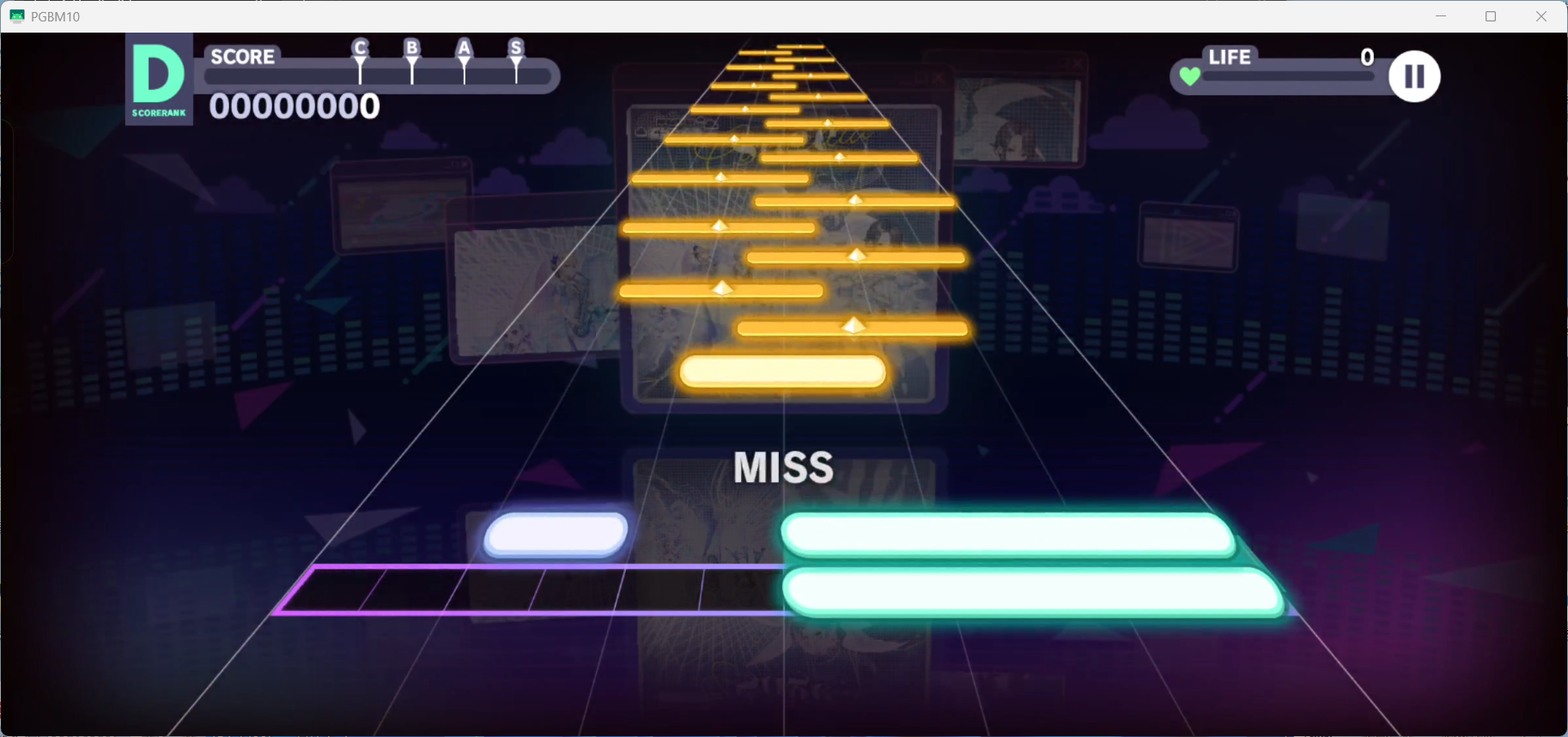sweep: (738, 317, 969, 336), (618, 280, 823, 299), (748, 247, 964, 264), (623, 219, 815, 233), (754, 194, 955, 207), (631, 171, 809, 184), (761, 151, 917, 161), (665, 135, 805, 143), (765, 118, 891, 126), (690, 105, 799, 113), (769, 93, 868, 101), (772, 72, 850, 80), (709, 82, 796, 89), (725, 64, 794, 70), (775, 57, 836, 62), (738, 50, 792, 55), (775, 45, 824, 49)
tap: (783, 567, 1284, 620), (781, 511, 1237, 561), (679, 356, 885, 389), (485, 513, 628, 559)
